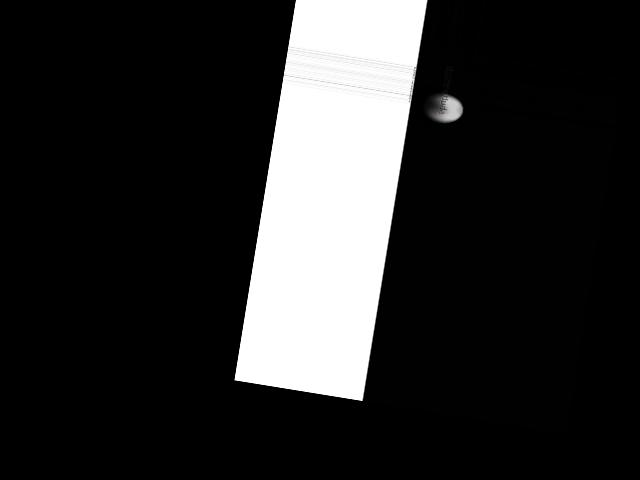egg: (420, 90, 465, 126)
